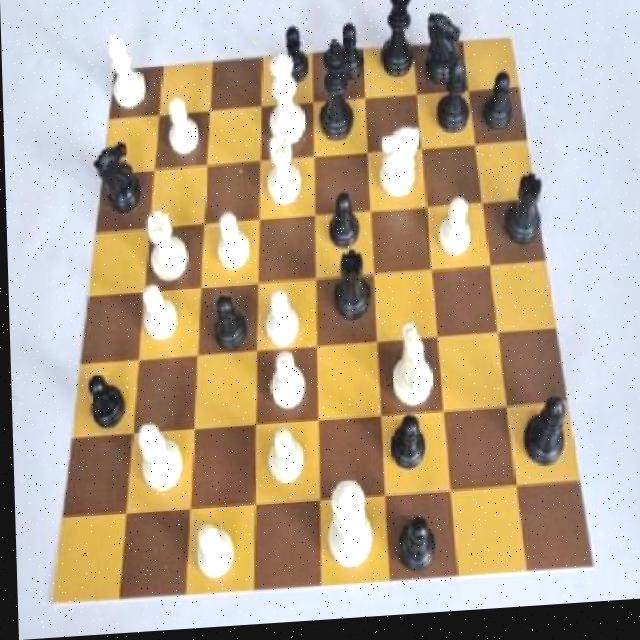bishop: (518, 391, 569, 479), (430, 63, 477, 145)
black-bishop: (309, 32, 361, 148)
black-king: (90, 134, 144, 221), (420, 11, 466, 100)
black-knight: (382, 410, 435, 489), (389, 508, 445, 582), (80, 367, 130, 435), (319, 192, 368, 260), (203, 290, 248, 360), (270, 23, 312, 92), (481, 72, 519, 147), (332, 21, 369, 89)
black-pawn: (374, 0, 417, 91)
black-queen: (497, 174, 546, 259), (328, 247, 370, 332)
black-rook: (131, 414, 184, 506), (101, 28, 153, 121)
white-bishop: (321, 473, 372, 581)
white-king: (378, 324, 439, 413), (368, 123, 425, 213)
white-knight: (133, 274, 179, 362), (186, 514, 234, 598), (259, 421, 306, 502), (210, 207, 254, 284), (257, 285, 303, 355), (430, 203, 477, 270), (266, 354, 310, 422), (161, 98, 204, 166)
white-pawn: (263, 51, 314, 157)
white-queen: (145, 206, 190, 292), (262, 132, 305, 213)
